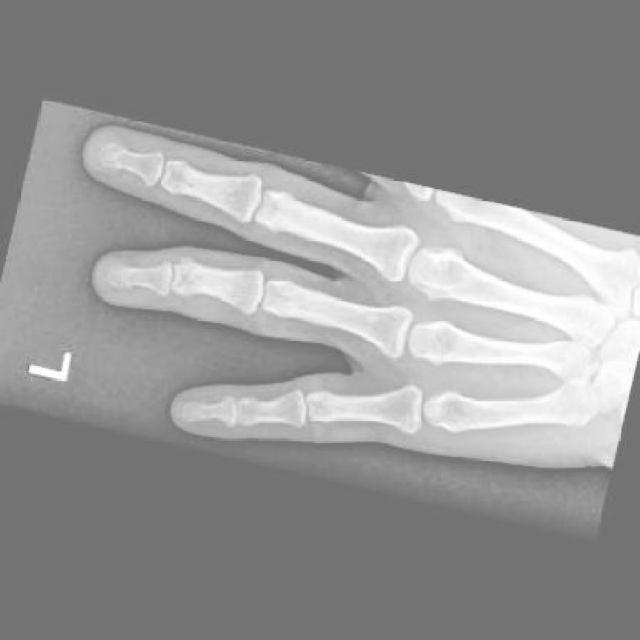Fracture: (169, 257, 209, 302)
